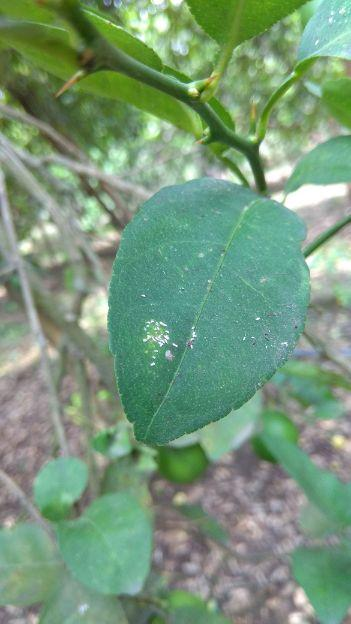Myzus persicae: (143, 320, 168, 346)
